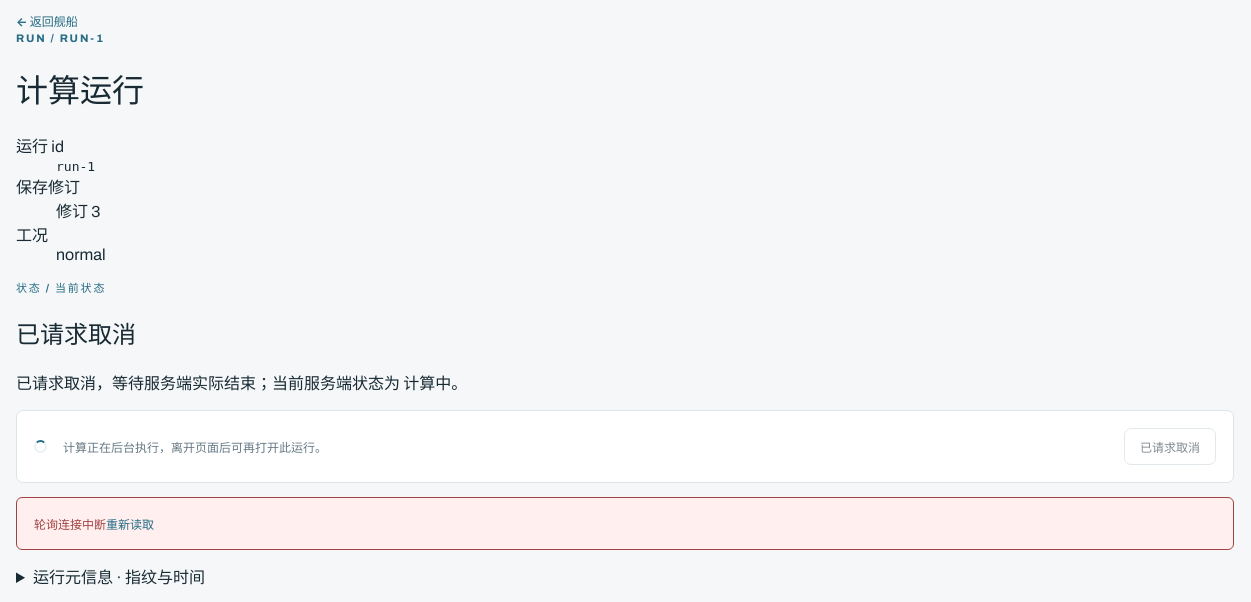
Test: late replies › can recover a failed poll while cancellation is already requested
This screenshot has width=1251, height=602.
Expected: the heading "已请求取消" is shown, [16,322,136,348]
Expected: the text "轮询连接中断" is shown, [34,518,106,532]
Click the button "重新读取" at (130, 523), box [106,512,154,535]
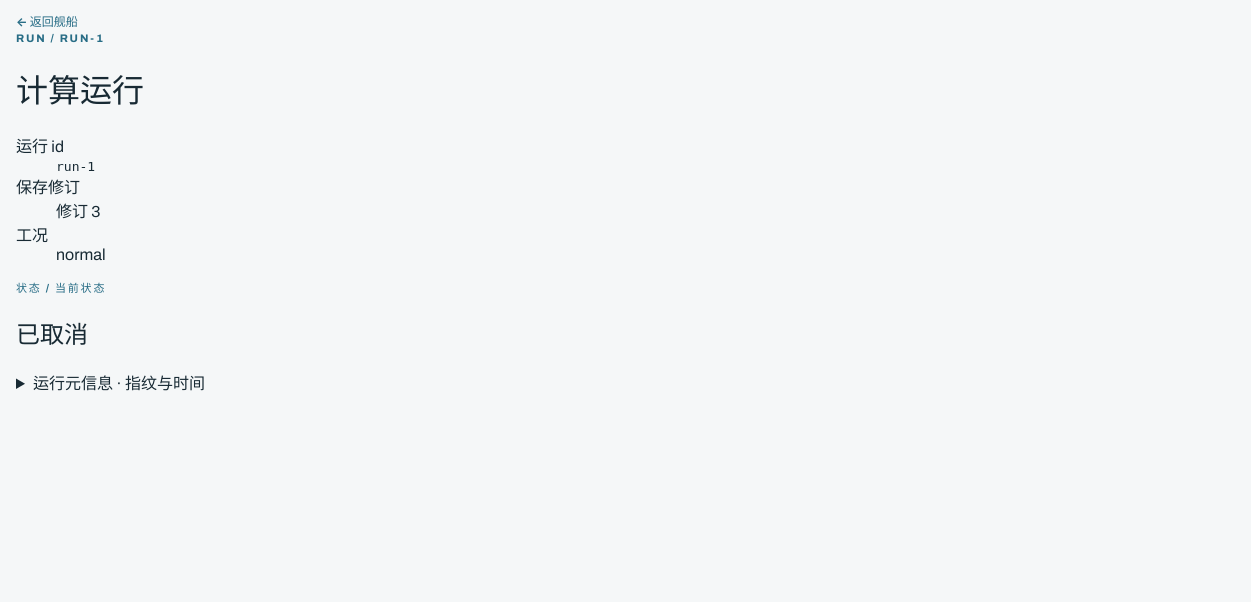
Expected: the heading "已取消" is shown, [16,322,88,348]
